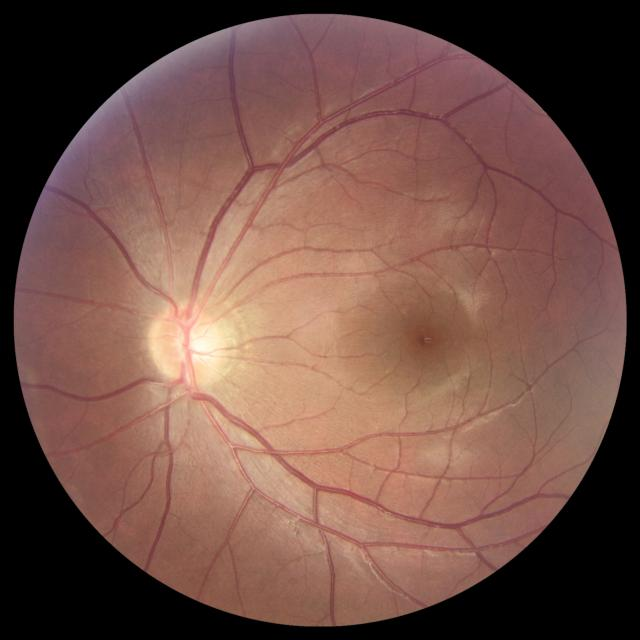OC: (176, 322, 213, 367)
OD: (149, 299, 229, 386)
